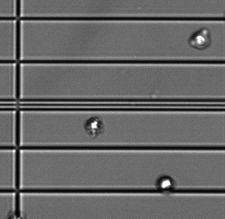Living Cell: (187, 26, 212, 52), (83, 115, 104, 136), (155, 174, 176, 193)
